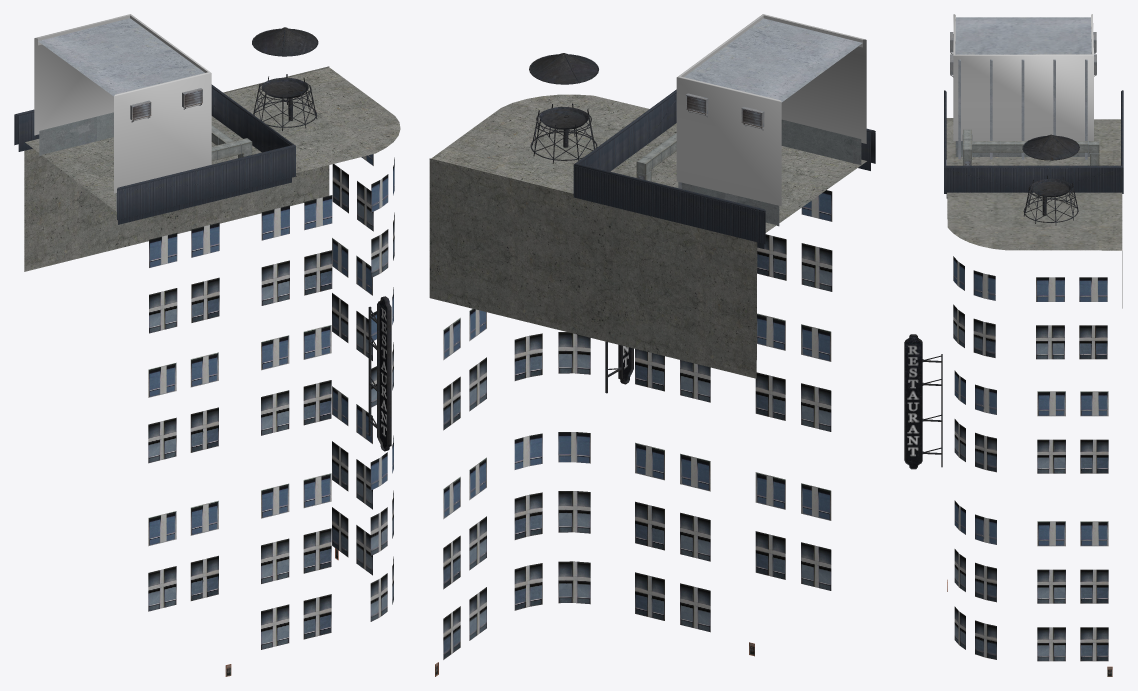
The model's file is u2NWBuild7.gltf.
3 renders of one model, left to right at view 1: azimuth 30°, elevation 25°; view 2: azimuth 150°, elevation 25°; view 3: azimuth 270°, elevation 25°, orthographic. The views are drawn at different scales.
Parts seen in each view (by area): view 1: u2NWBuild7; view 2: u2NWBuild7; view 3: u2NWBuild7.
Boxes of the visible parts, x1,y1,x2,y2 form: u2NWBuild7: (14,14,400,676); u2NWBuild7: (429,14,875,676); u2NWBuild7: (904,14,1123,676).
Size of the model in its own units: 8.22 by 15.08 by 5.66.
